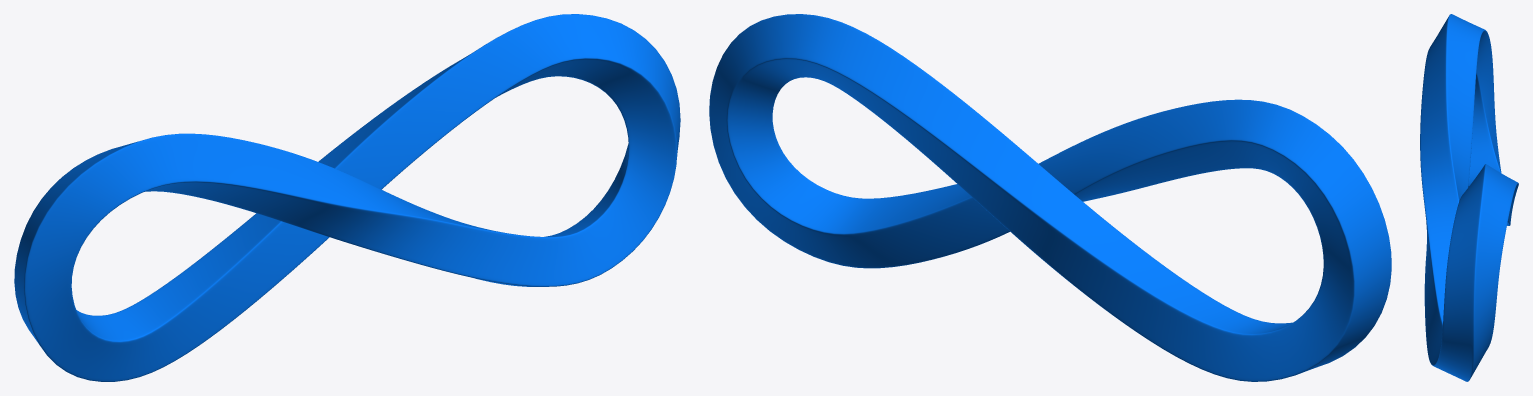
The model's file is infinity-loop.glb.
The picture shows the model from 3 angles, left to right: view 1: azimuth 30°, elevation 25°; view 2: azimuth 150°, elevation 25°; view 3: azimuth 270°, elevation 25°; orthographic projection. The views are drawn at different scales.
Visible parts, largest first — view 1: Infinity_loopobjcleanermaterialmergergles; view 2: Infinity_loopobjcleanermaterialmergergles; view 3: Infinity_loopobjcleanermaterialmergergles.
Boxes of the visible parts, x1,y1,x2,y2 form: Infinity_loopobjcleanermaterialmergergles: [14, 14, 680, 381]; Infinity_loopobjcleanermaterialmergergles: [709, 14, 1391, 381]; Infinity_loopobjcleanermaterialmergergles: [1420, 14, 1518, 381].
Bounding box in the file's own units: 7.02 × 2.58 × 1.19.
